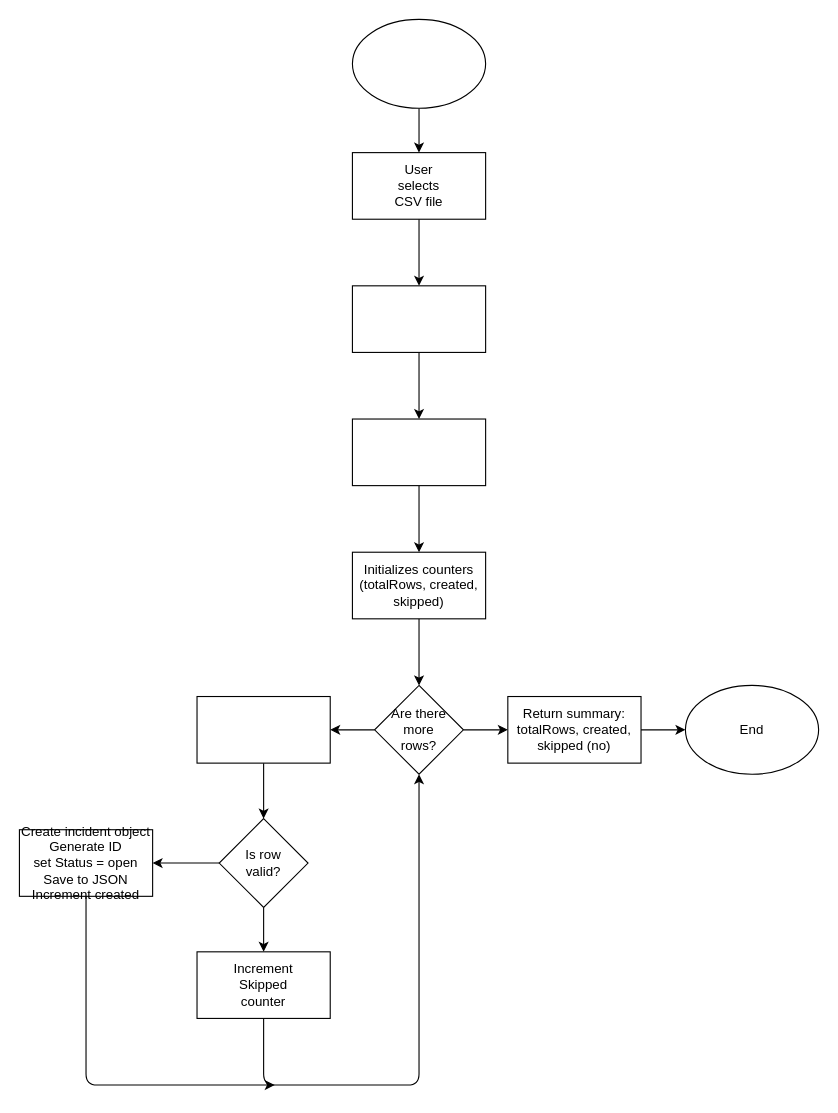
This 838x1113 diagram has some shape labels left out. The shapes that lost their labels are listed below. From the top down, each one's centre as x and y in pixels, then its label:
pixel 418 63: Start
pixel 418 318: User sends POST
pixel 418 452: Backend parses CSV file
pixel 263 729: Validate current row (yes)
